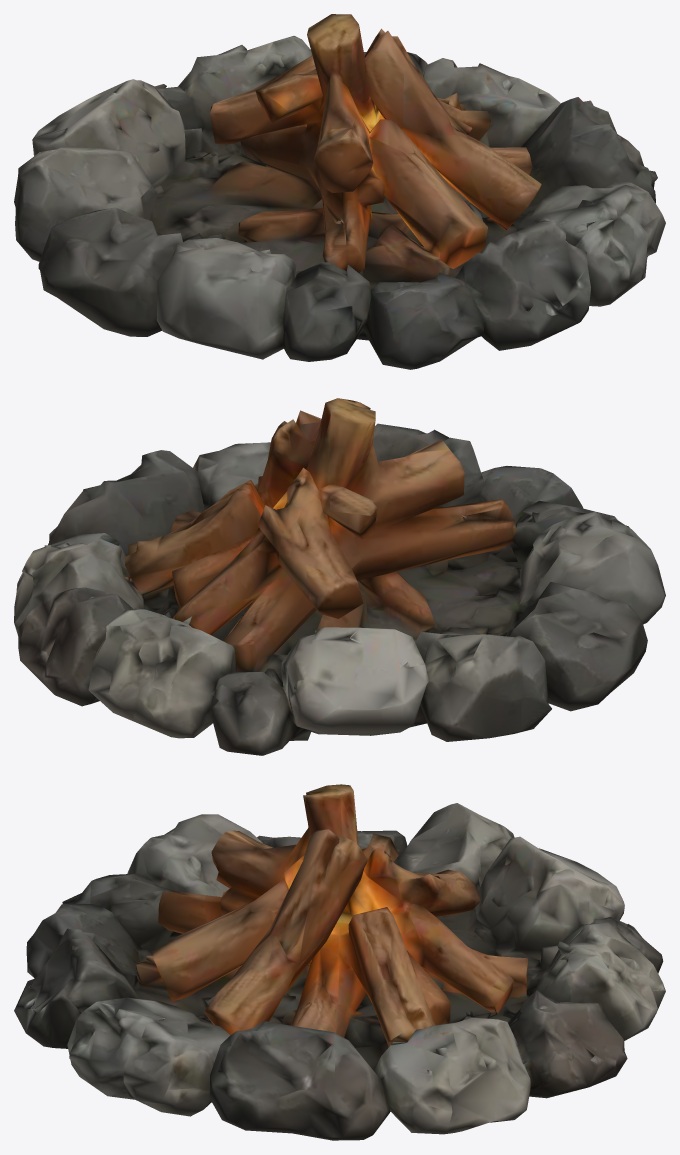
File: fogata.glb
The picture shows the model from 3 angles, top to bottom: view 1: azimuth 30°, elevation 25°; view 2: azimuth 150°, elevation 25°; view 3: azimuth 270°, elevation 25°; orthographic projection.
Visible parts, largest first — view 1: tripo_node_5edb956a-9f16-4ca3-b447-448284d04c50; view 2: tripo_node_5edb956a-9f16-4ca3-b447-448284d04c50; view 3: tripo_node_5edb956a-9f16-4ca3-b447-448284d04c50.
Part boxes in pixels (x1,y1,x2,y2): tripo_node_5edb956a-9f16-4ca3-b447-448284d04c50: (14, 14, 665, 369); tripo_node_5edb956a-9f16-4ca3-b447-448284d04c50: (14, 398, 665, 755); tripo_node_5edb956a-9f16-4ca3-b447-448284d04c50: (14, 784, 665, 1140).
Bounding box in the file's own units: 0.9953 × 0.3928 × 0.9988.
Materials: 1 (1 with a texture image).
